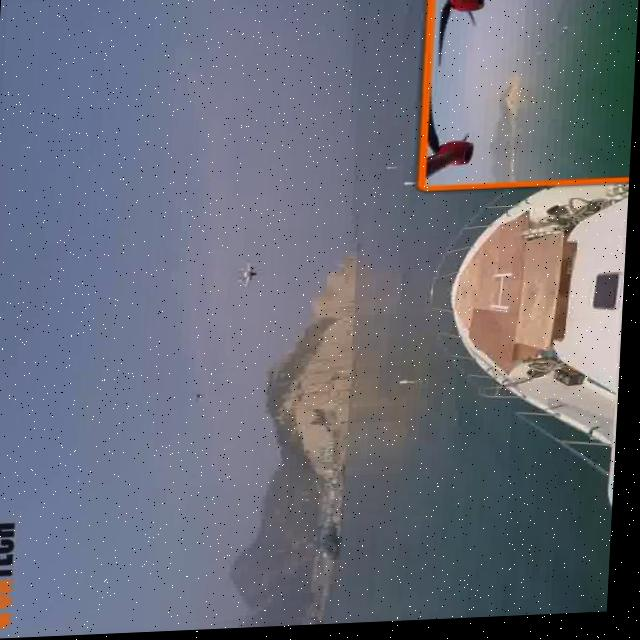drone: (226, 261, 274, 293)
